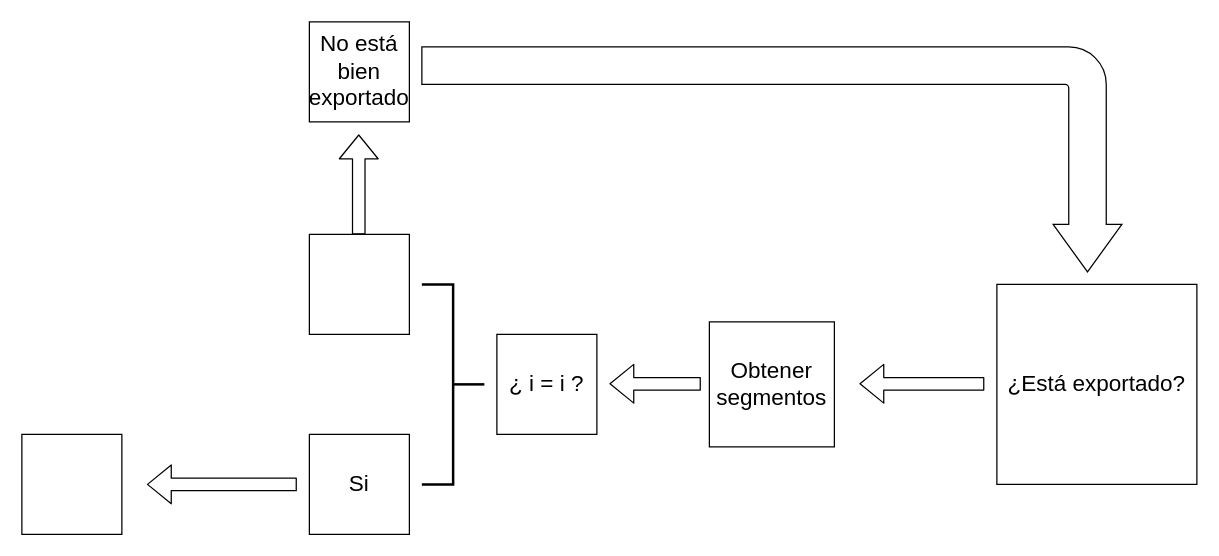
This 1219x556 diagram has some shape labels left out. The shapes that lost their labels are listed below. From the top down, each one's box as (x1, y1, x2, y2) in pixels, then its label:
(308, 233, 409, 334): No
(21, 433, 122, 534): calcular j
